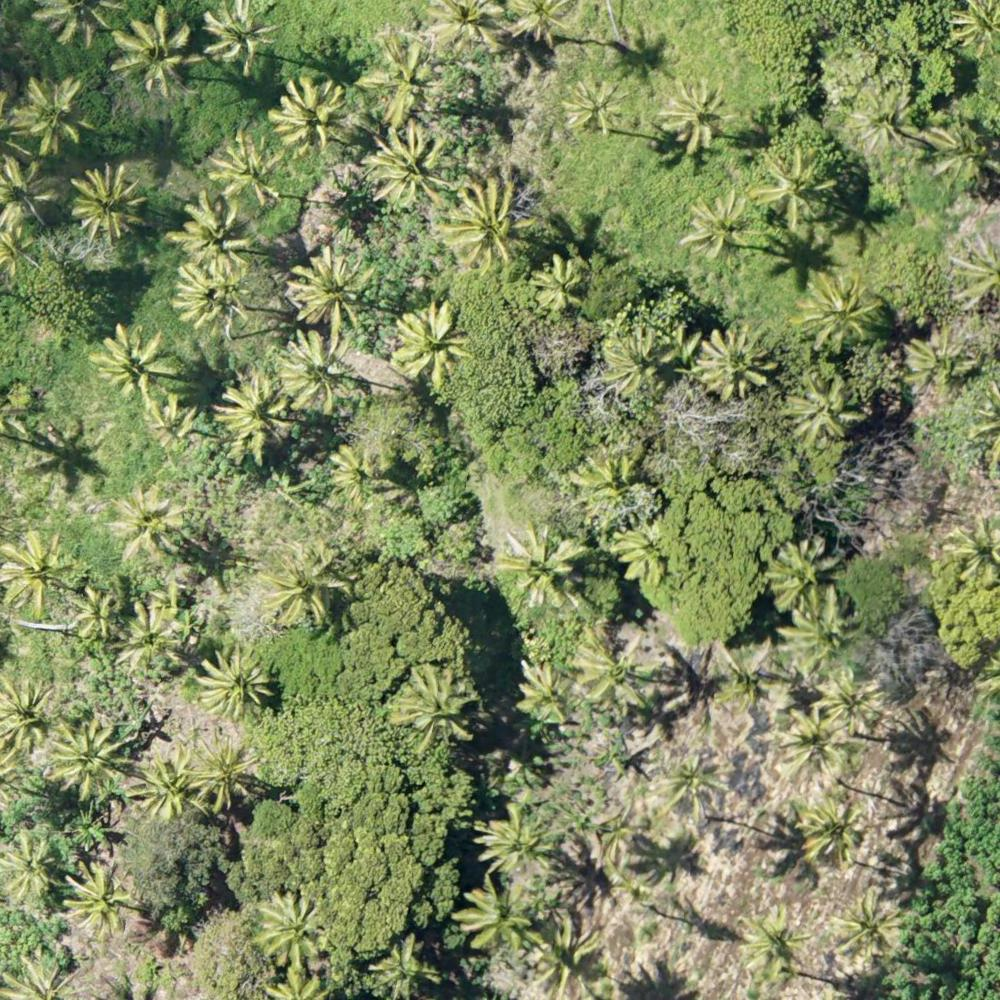Palm: (443, 177, 541, 267), (286, 246, 383, 333), (108, 7, 196, 96), (784, 589, 872, 674), (391, 666, 479, 750), (361, 29, 443, 119), (275, 332, 362, 416), (93, 318, 181, 397), (392, 300, 476, 381), (502, 521, 582, 606), (365, 124, 452, 202), (257, 552, 345, 629), (169, 193, 251, 275), (219, 369, 291, 462), (197, 648, 285, 724), (112, 482, 193, 564), (579, 630, 662, 710), (798, 269, 883, 347), (249, 891, 335, 967), (2, 531, 76, 619), (65, 162, 147, 241), (658, 75, 737, 156), (533, 919, 613, 997), (269, 78, 349, 156), (735, 912, 811, 993), (775, 708, 855, 784), (55, 725, 136, 800), (713, 641, 790, 719), (758, 144, 837, 219), (455, 878, 534, 952), (9, 75, 89, 148), (193, 734, 266, 814), (201, 1, 281, 73), (67, 859, 142, 934), (826, 888, 907, 957), (796, 793, 869, 869), (209, 130, 287, 201), (166, 266, 245, 336), (789, 373, 867, 443), (768, 541, 847, 610), (929, 112, 1000, 188), (902, 331, 980, 400), (701, 326, 775, 397), (848, 83, 922, 154), (481, 802, 554, 872), (602, 328, 678, 394), (688, 192, 756, 262), (1, 827, 61, 905), (124, 599, 190, 669), (137, 749, 199, 822), (370, 934, 441, 997), (617, 518, 682, 585), (657, 752, 725, 816), (514, 658, 583, 721), (1, 675, 58, 750), (821, 669, 888, 731), (565, 76, 634, 135), (323, 443, 388, 504), (137, 393, 204, 452), (533, 254, 588, 312), (949, 515, 1000, 573), (71, 585, 124, 638)
